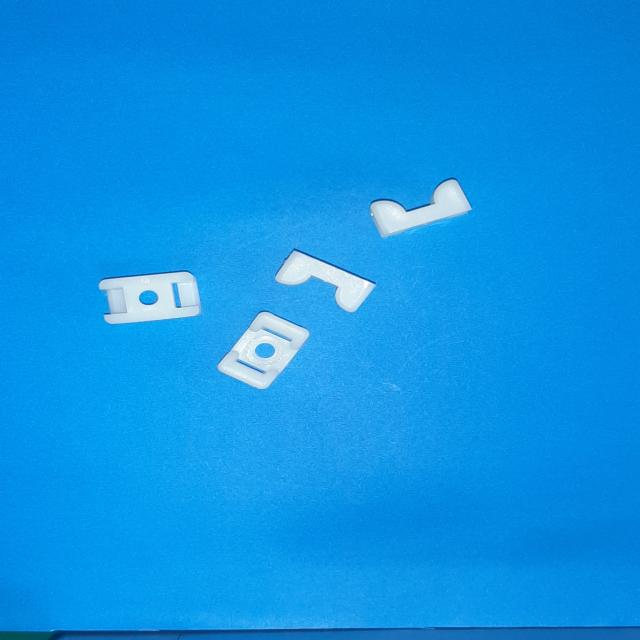false_1: (98, 271, 200, 324)
false_2: (275, 250, 375, 312), (370, 179, 472, 238)
true: (218, 311, 310, 389)
true_center: (255, 343, 275, 358)
